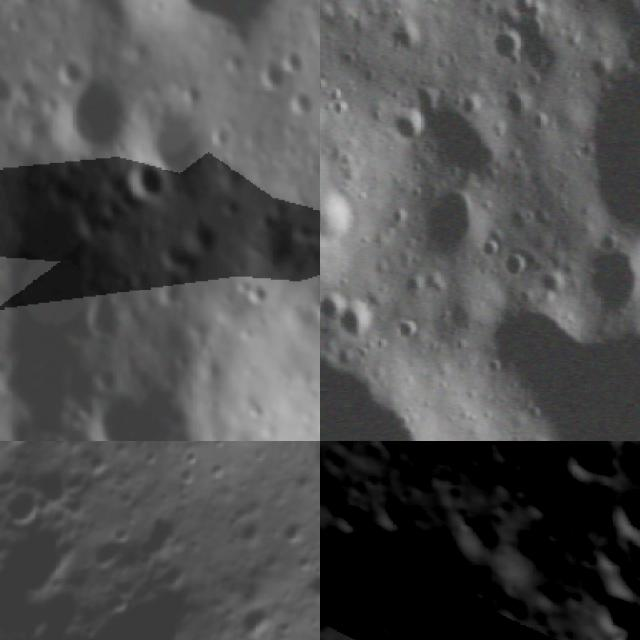crater: (587, 82, 640, 238), (151, 0, 307, 47), (146, 92, 220, 183), (91, 387, 204, 441), (60, 76, 130, 156), (424, 189, 491, 257), (575, 573, 640, 640), (325, 492, 383, 550), (550, 441, 623, 487), (372, 483, 428, 542), (597, 476, 640, 548), (228, 591, 283, 640), (4, 479, 55, 530), (47, 44, 92, 92), (270, 506, 315, 551), (127, 160, 172, 203), (152, 557, 195, 599), (248, 53, 292, 94), (88, 532, 129, 576), (181, 210, 222, 253), (490, 28, 528, 70), (386, 113, 427, 150), (80, 444, 117, 482), (297, 557, 320, 613), (284, 84, 318, 120), (234, 513, 268, 547), (105, 588, 138, 622), (348, 302, 373, 344), (0, 57, 19, 109), (320, 505, 335, 570), (30, 421, 77, 441), (502, 253, 534, 282), (320, 289, 342, 329), (397, 315, 425, 346), (619, 549, 640, 589), (207, 456, 236, 484), (139, 445, 166, 472), (75, 617, 106, 640), (180, 442, 206, 468), (204, 441, 235, 455), (237, 433, 284, 441)
